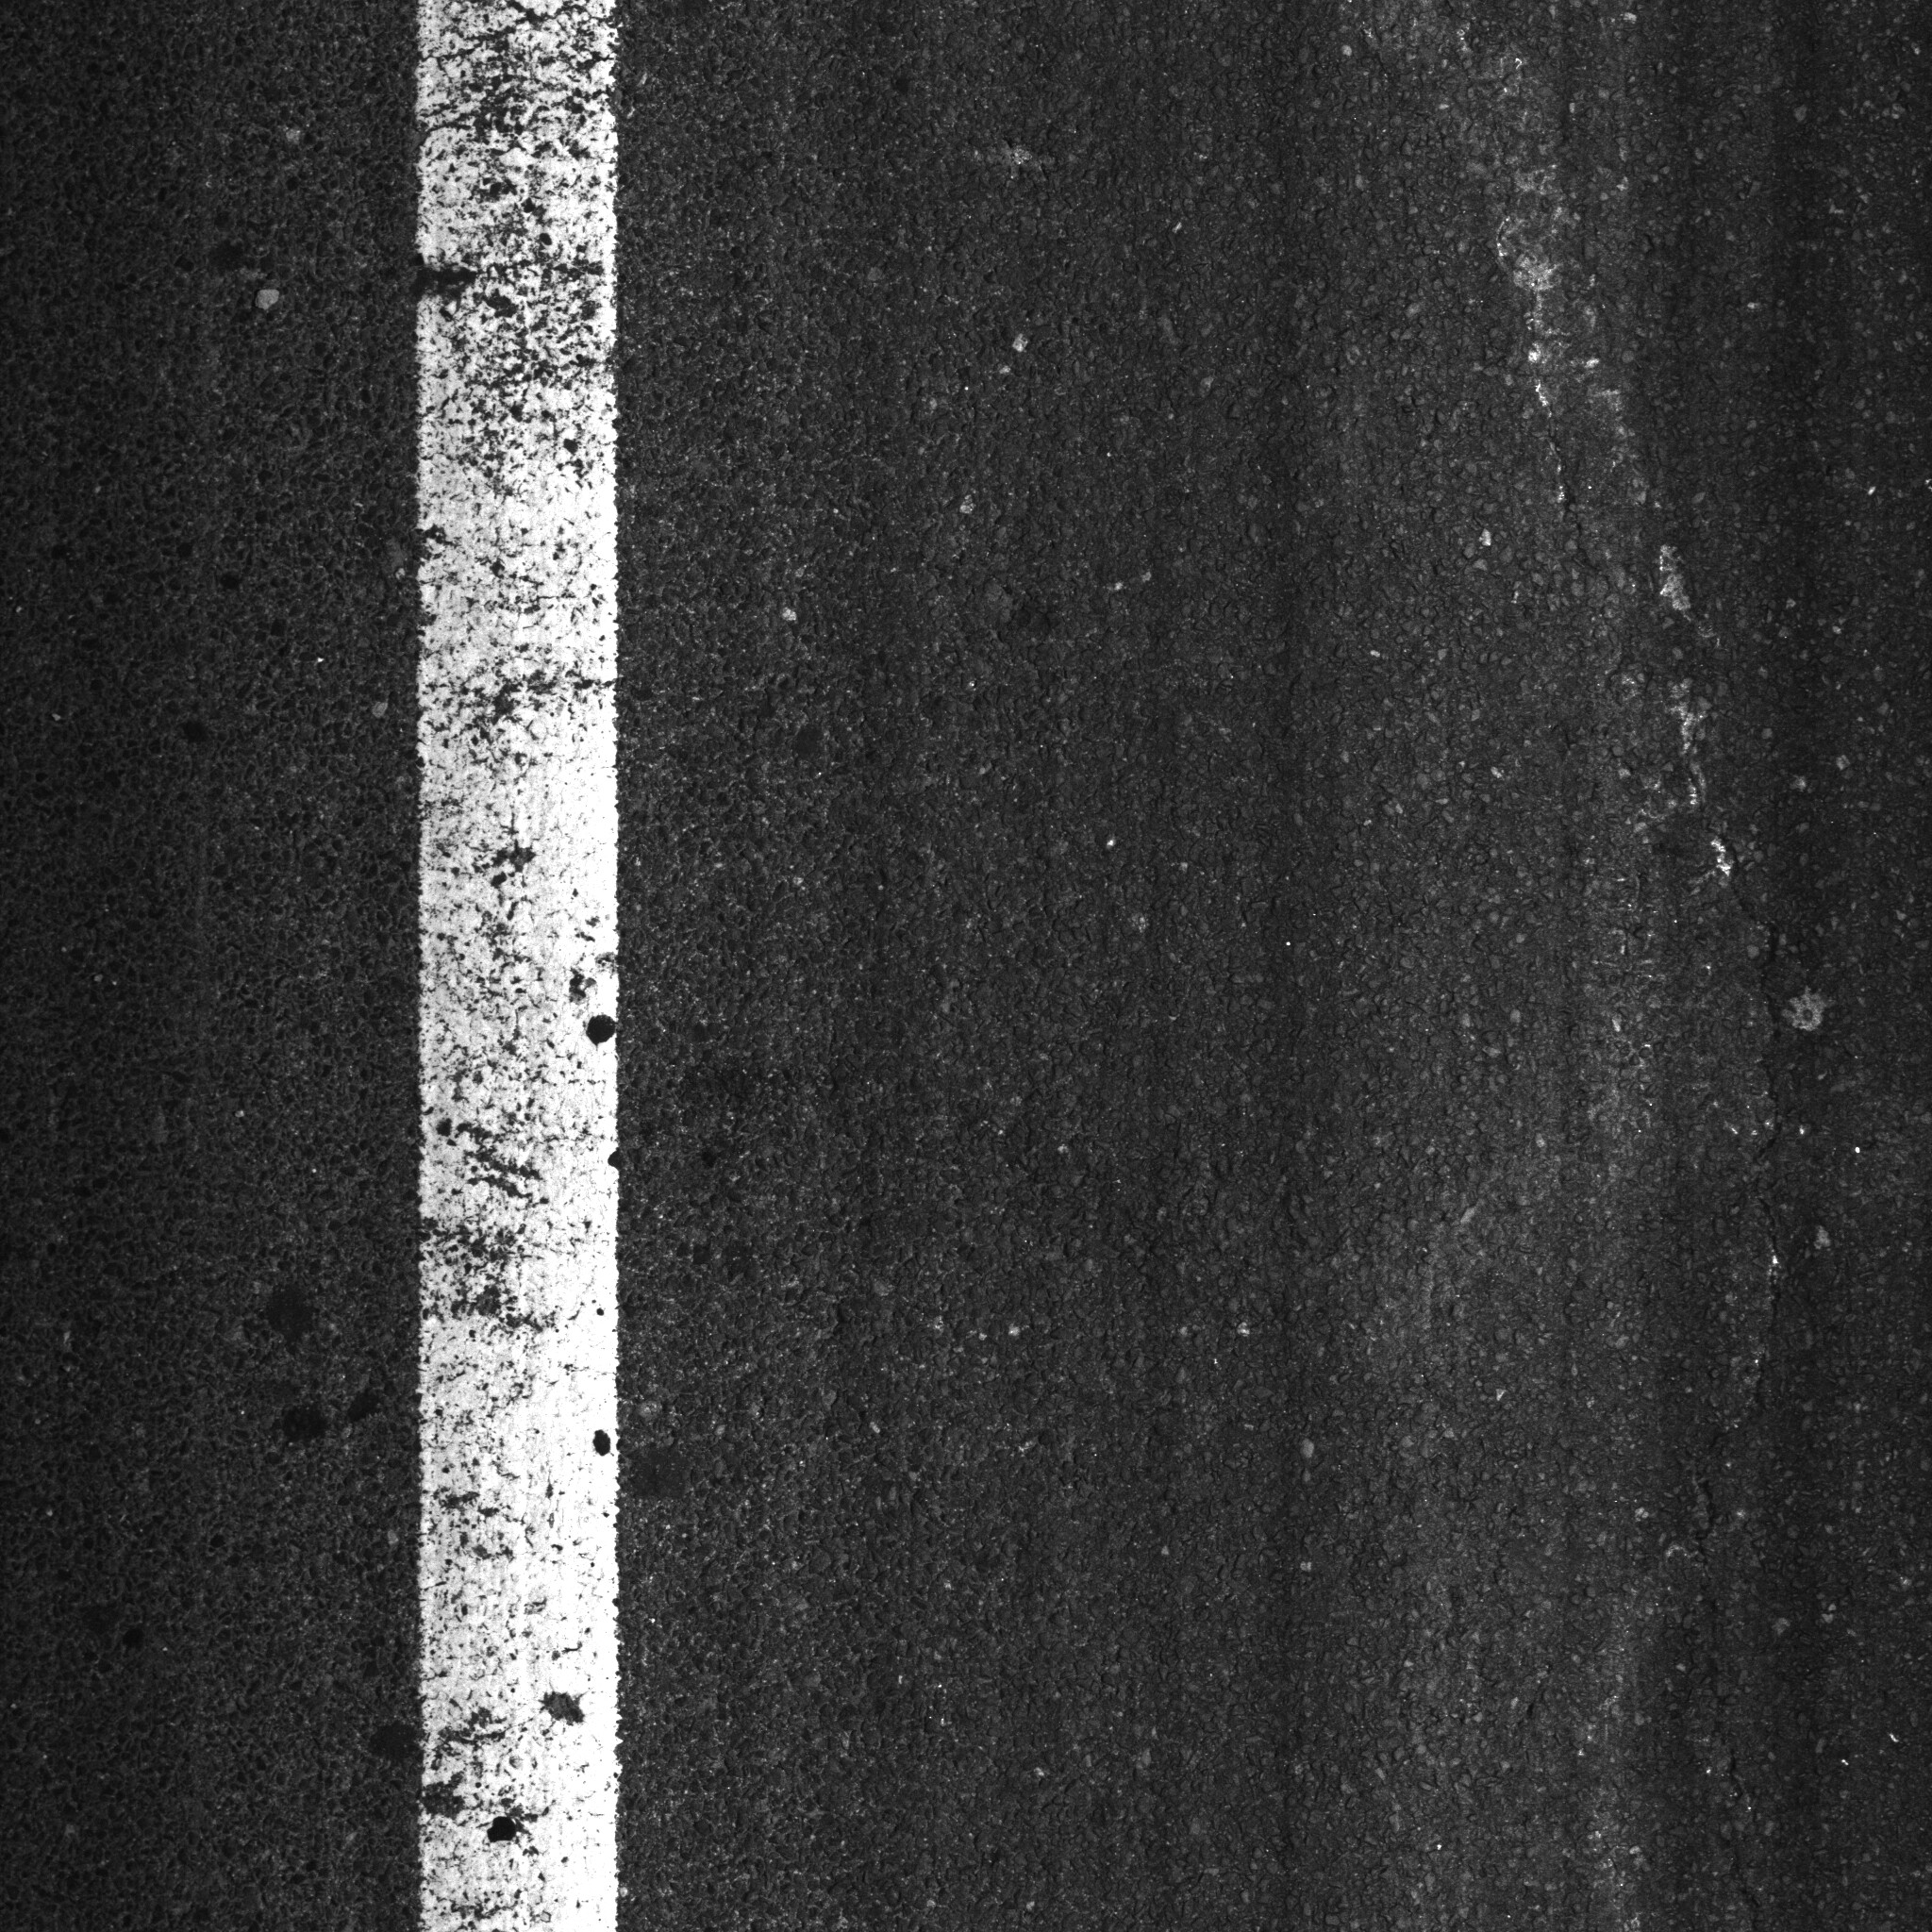longitudinal: (1453, 5, 1859, 1925)
